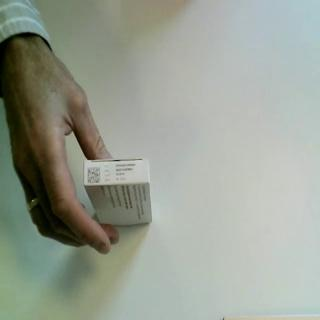oxycontin15mg: (83, 156, 155, 228)
